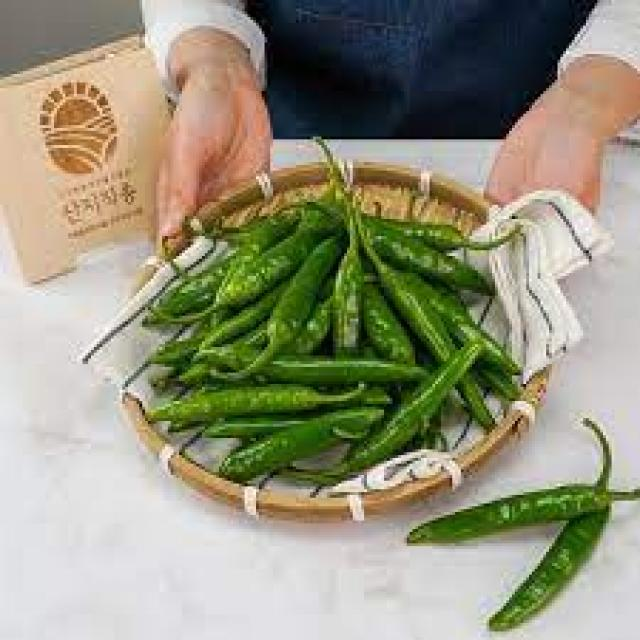pepper: (282, 338, 485, 481), (410, 488, 617, 547), (151, 387, 364, 428)
